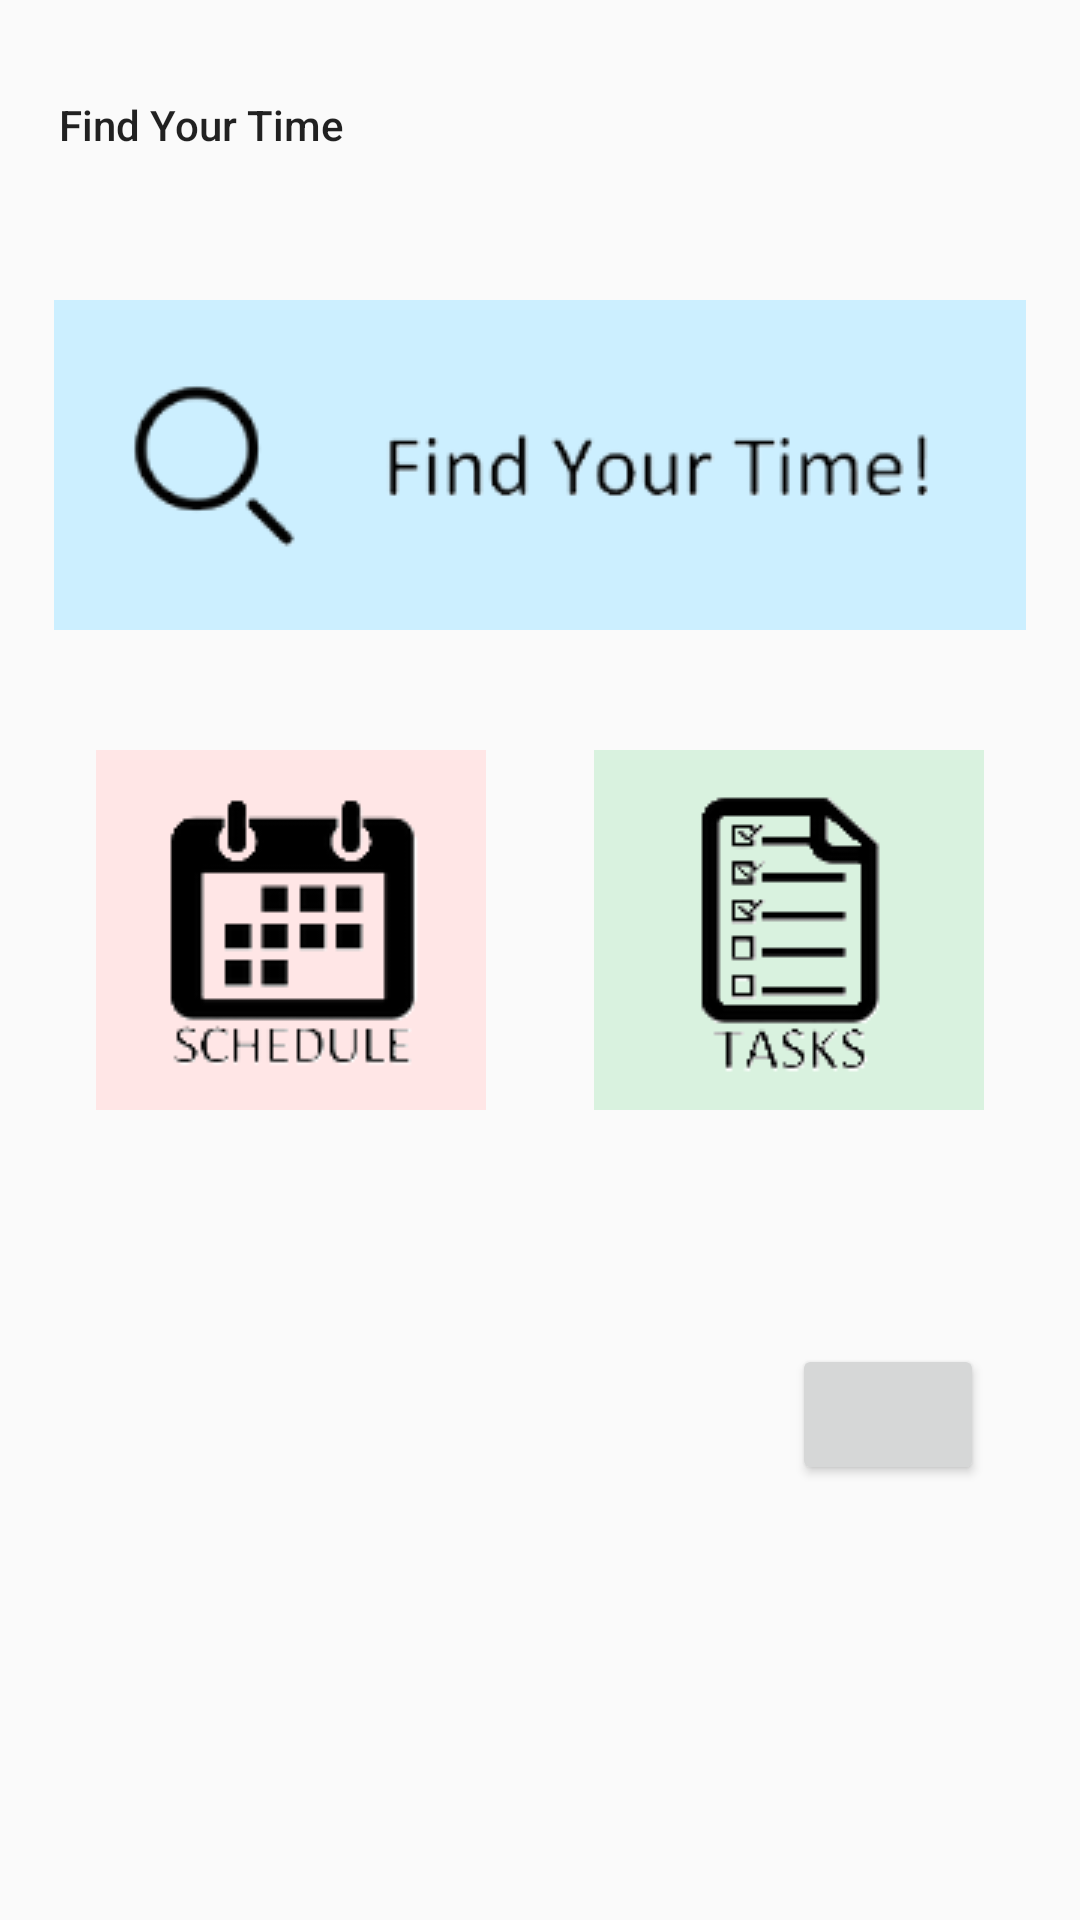

Named icons in this screenshot (1080 × 1920) and their centers, [x,y]:
calendar up: [292,931]
